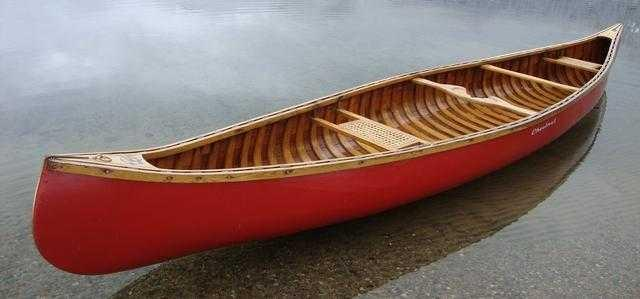kayak: (37, 32, 626, 278)
